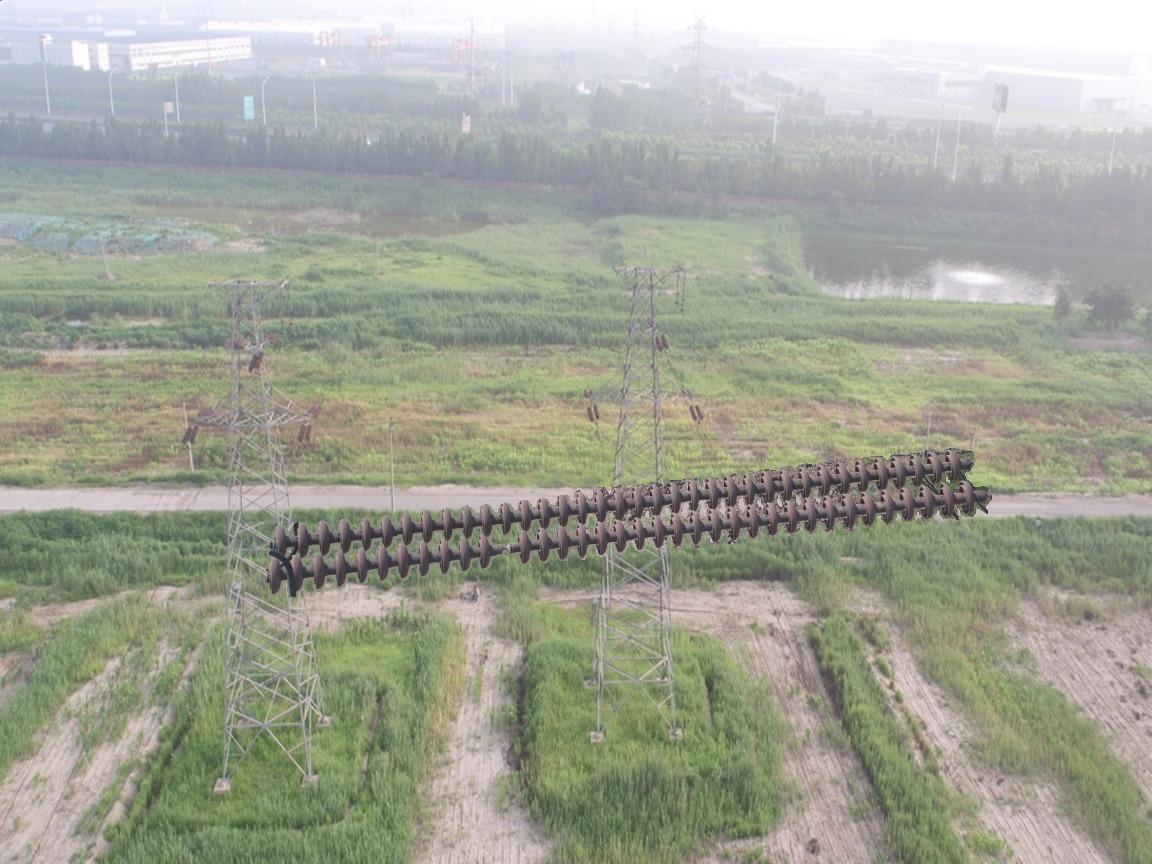defect: (470, 529, 539, 568)
